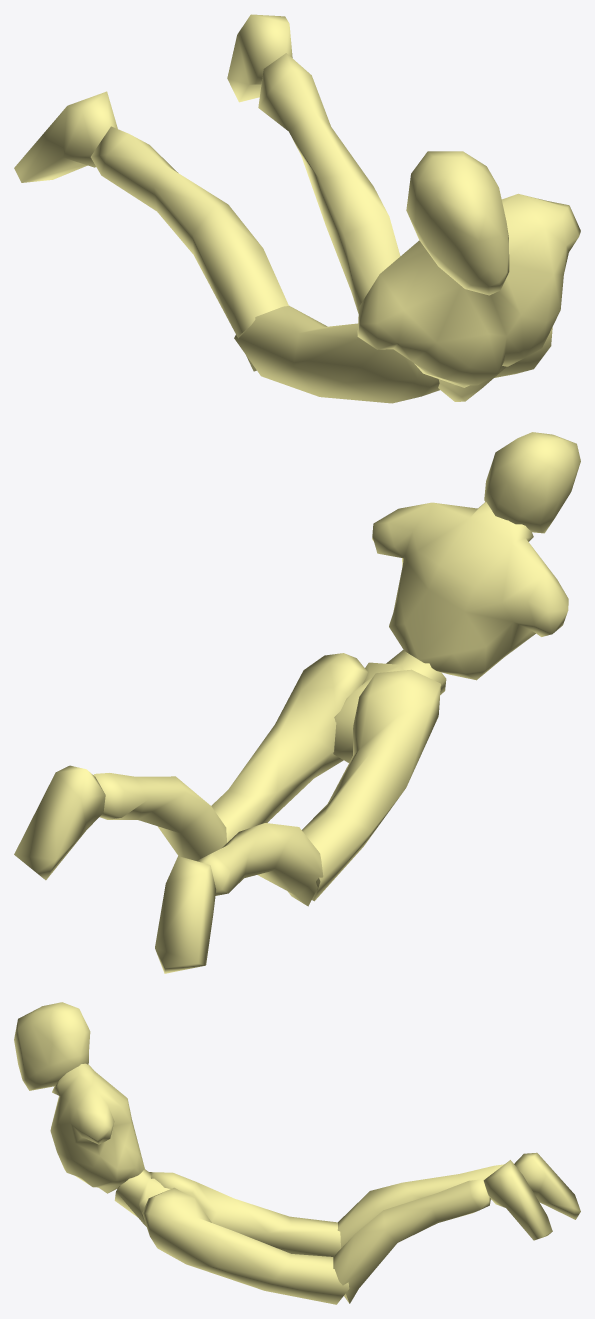
Rendered from filth31.obj.
The picture shows the model from 3 angles, top to bottom: view 1: azimuth 30°, elevation 25°; view 2: azimuth 150°, elevation 25°; view 3: azimuth 270°, elevation 25°; orthographic projection. The views are drawn at different scales.
Visible parts, largest first — view 1: Melee_Husk; view 2: Melee_Husk; view 3: Melee_Husk.
Boxes of the visible parts, bbox=[...] form: Melee_Husk: bbox=[14, 14, 580, 403]; Melee_Husk: bbox=[14, 432, 580, 973]; Melee_Husk: bbox=[14, 1002, 580, 1304].
Size of the model in its own units: 26.28 by 34.51 by 72.12.
